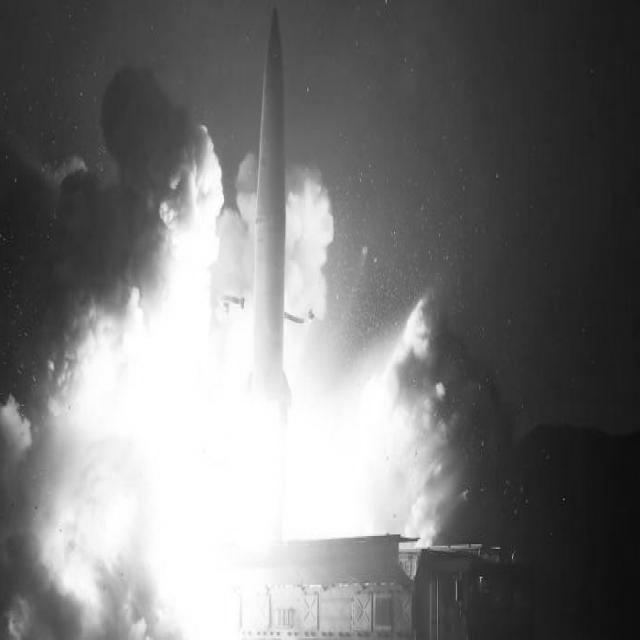missile: (239, 0, 306, 403)
